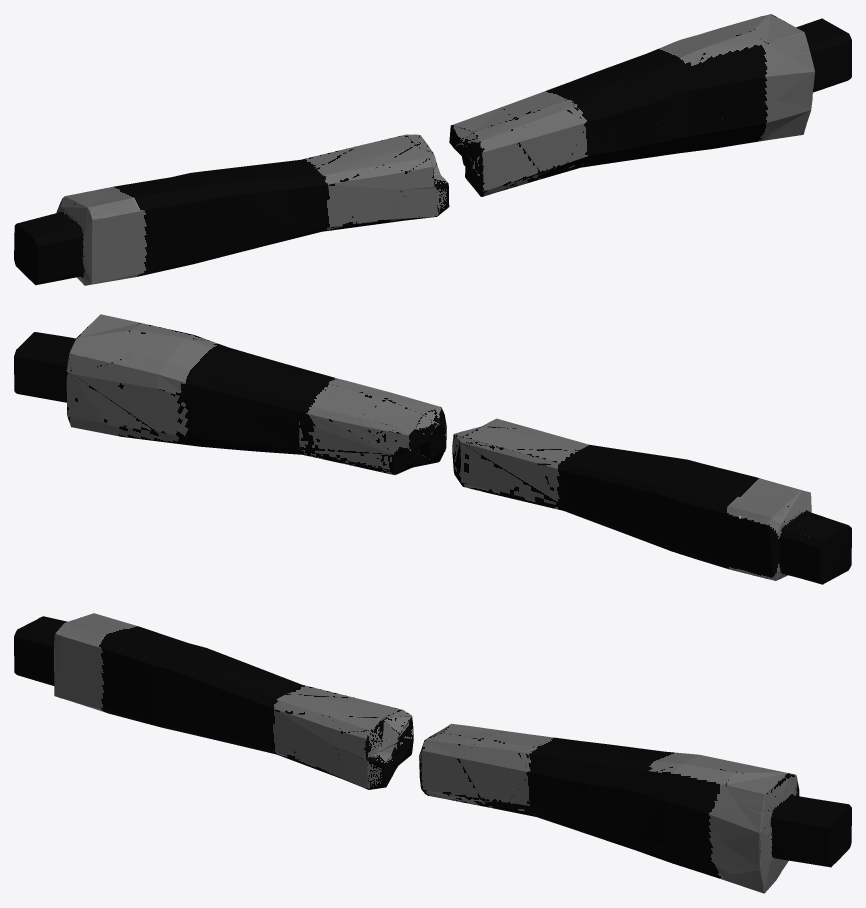
The picture shows the model from 3 angles, top to bottom: view 1: azimuth 30°, elevation 25°; view 2: azimuth 150°, elevation 25°; view 3: azimuth 330°, elevation 25°; orthographic projection.
Visible parts, largest first — view 1: OBJ09d; view 2: OBJ09d; view 3: OBJ09d.
Boxes of the visible parts, x1,y1,x2,y2 form: OBJ09d: (14, 14, 851, 285); OBJ09d: (14, 314, 851, 584); OBJ09d: (14, 613, 851, 893).
Bounding box in the file's own units: 0.3029 × 0.0371 × 0.0373.
Materials: 1 (1 with a texture image).
